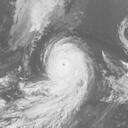cyclone: (40, 35, 95, 90)
